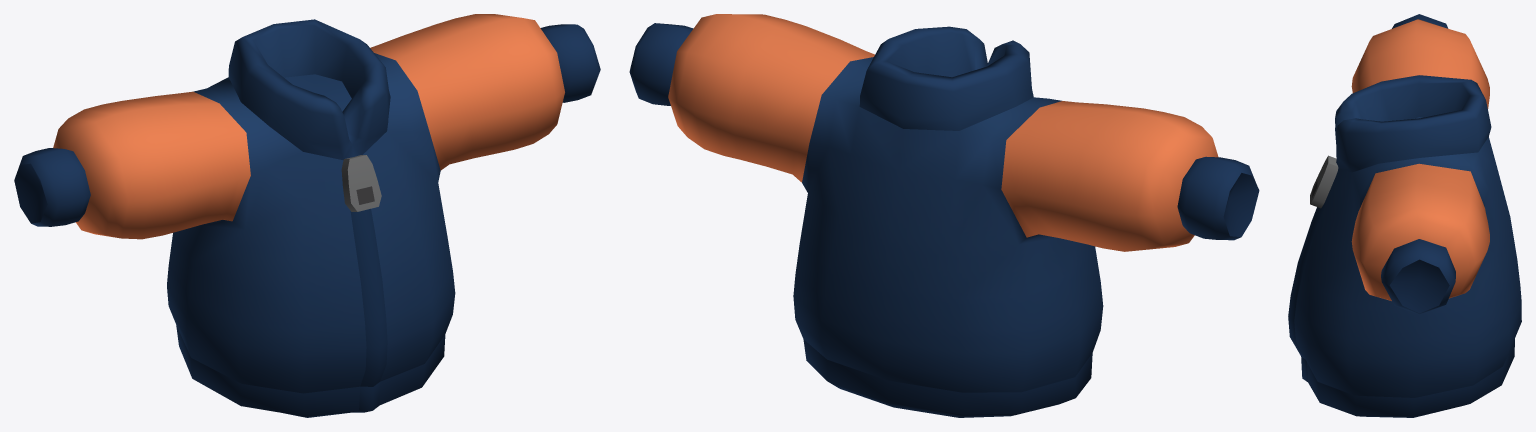
The model's file is Top_30.fbx.
The picture shows the model from 3 angles, left to right: view 1: azimuth 30°, elevation 25°; view 2: azimuth 150°, elevation 25°; view 3: azimuth 270°, elevation 25°; orthographic projection. The views are drawn at different scales.
Parts seen in each view (by area): view 1: Top_30; view 2: Top_30; view 3: Top_30.
Part boxes in pixels (box(x1,y1,x2,y2)): Top_30: box(14, 14, 600, 417); Top_30: box(629, 14, 1259, 417); Top_30: box(1288, 14, 1521, 417).
Size of the model in its own units: 95.72 by 53.32 by 38.89.
